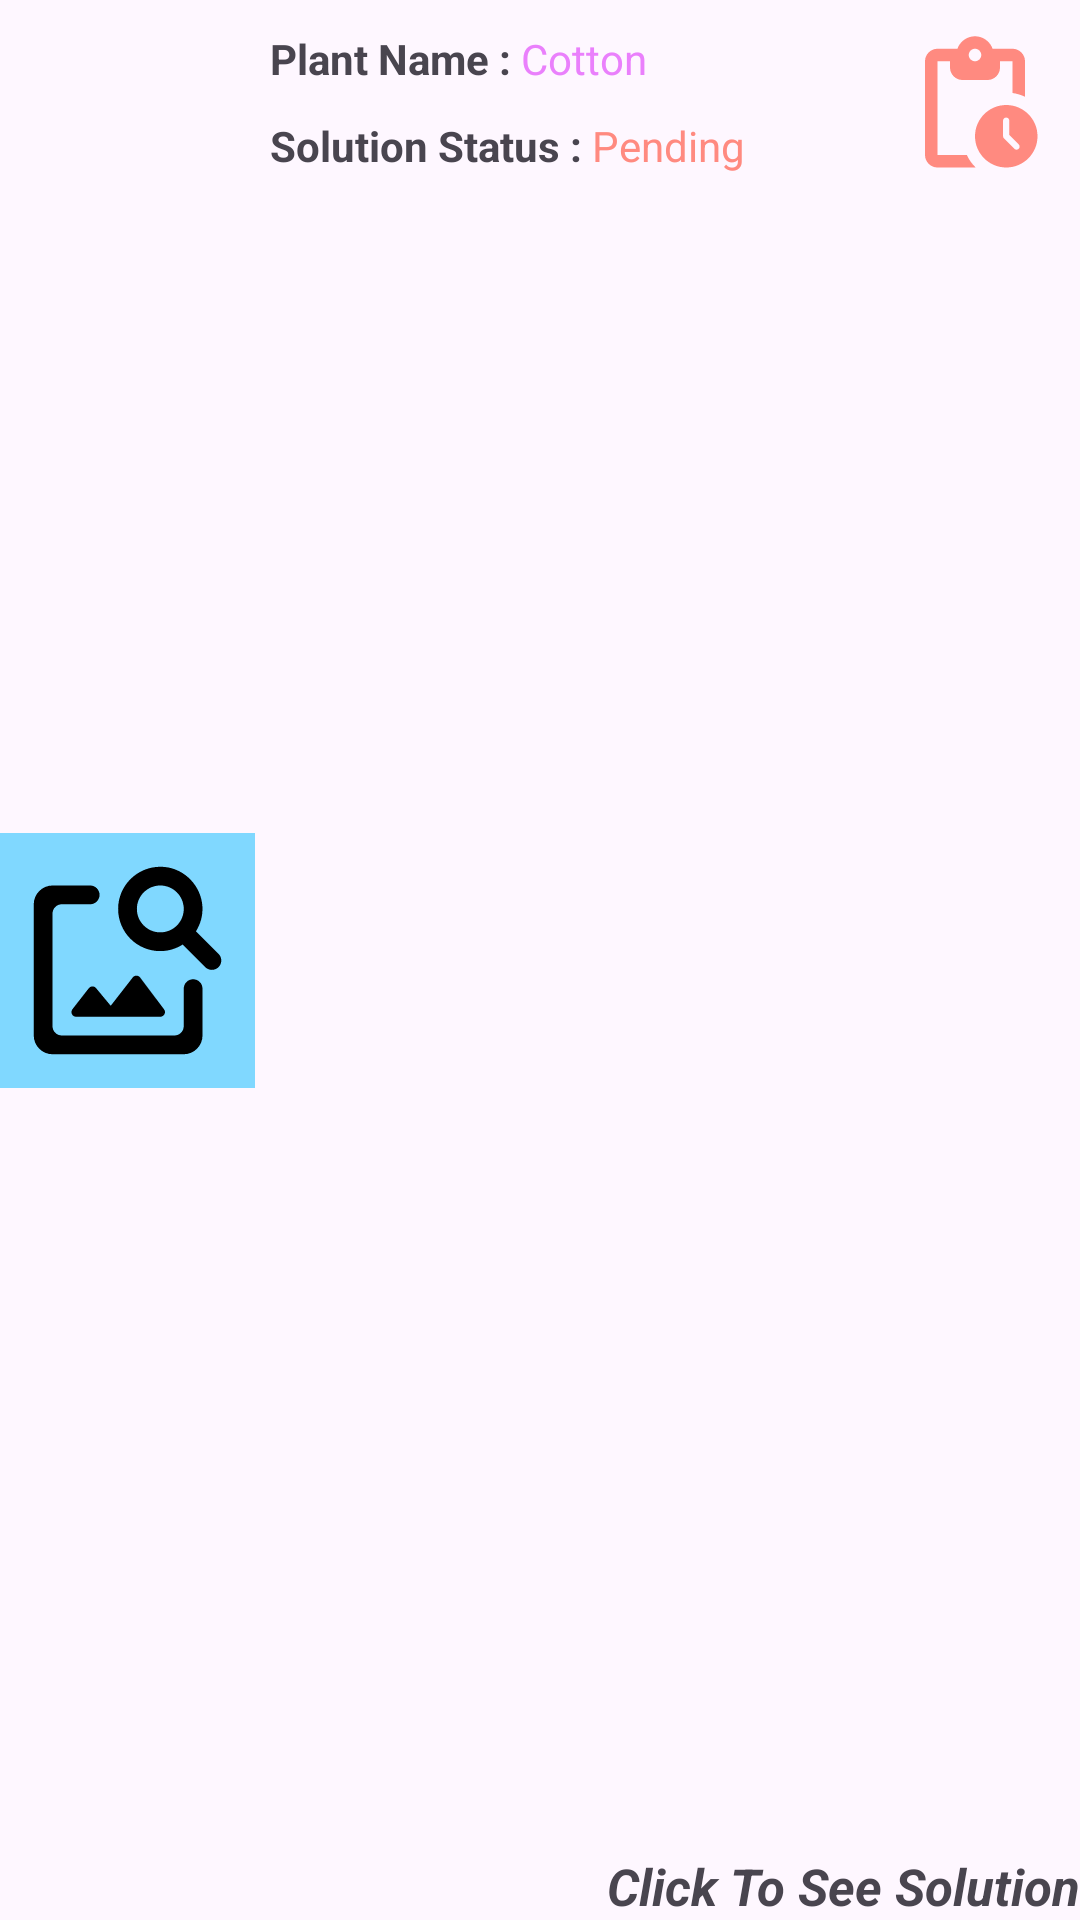

Screen size 1080w x 1920h. Icon name, then its center in pixels as [x,y]:
solution pending: [981,102]
